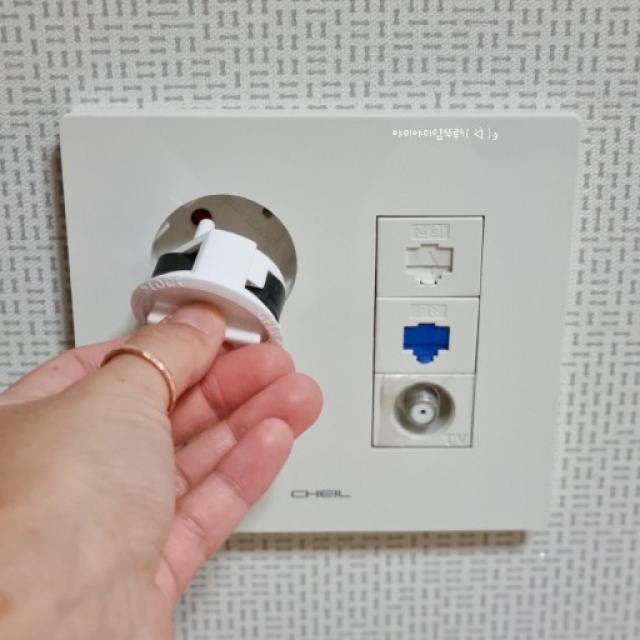typeb: (32, 81, 606, 598)
